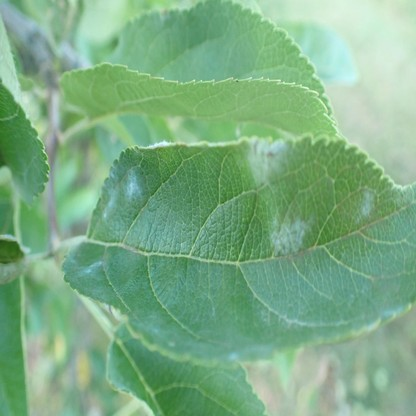powdery_mildew: (245, 137, 285, 185), (260, 302, 317, 328), (270, 218, 309, 253), (103, 167, 119, 222), (126, 169, 144, 206), (357, 190, 377, 220), (79, 261, 103, 275), (228, 351, 237, 360)
